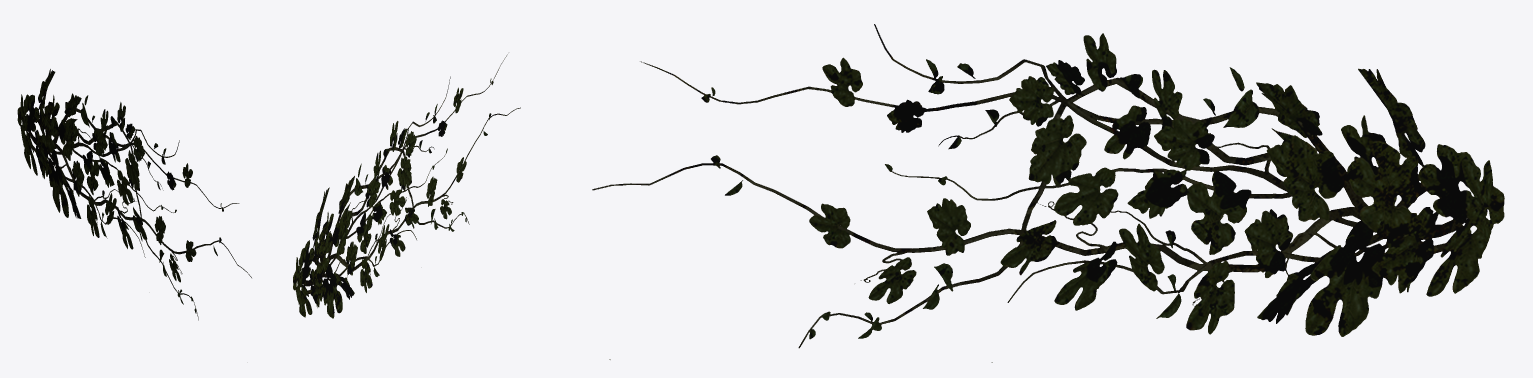
The model's file is Grass_Decal.fbx.
The picture shows the model from 3 angles, left to right: view 1: azimuth 30°, elevation 25°; view 2: azimuth 150°, elevation 25°; view 3: azimuth 270°, elevation 25°; orthographic projection. The views are drawn at different scales.
Parts seen in each view (by area): view 1: pPlane9; view 2: pPlane9; view 3: pPlane9.
Part boxes in pixels (bbox=[...]): pPlane9: bbox=[17, 69, 251, 320]; pPlane9: bbox=[293, 54, 520, 318]; pPlane9: bbox=[592, 24, 1504, 362].
Size of the model in its own units: 2.22e-16 by 0.1189 by 0.2972.
